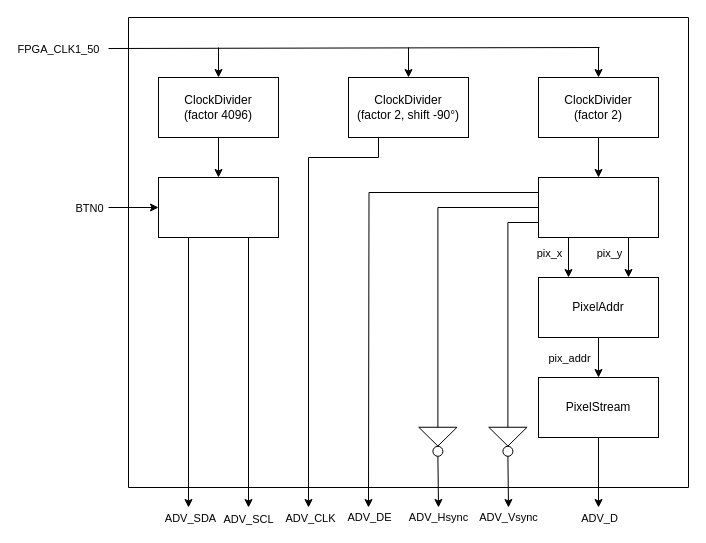
The diagram is 706 pixels wide and 543 high, and some of its shapes have lost their labels. The shapes that lost their labels are listed below. From the top down, each one's centre as x and y in pixels, then its label:
(218,207): I2CSubsystem
(598,207): PixelCursor
